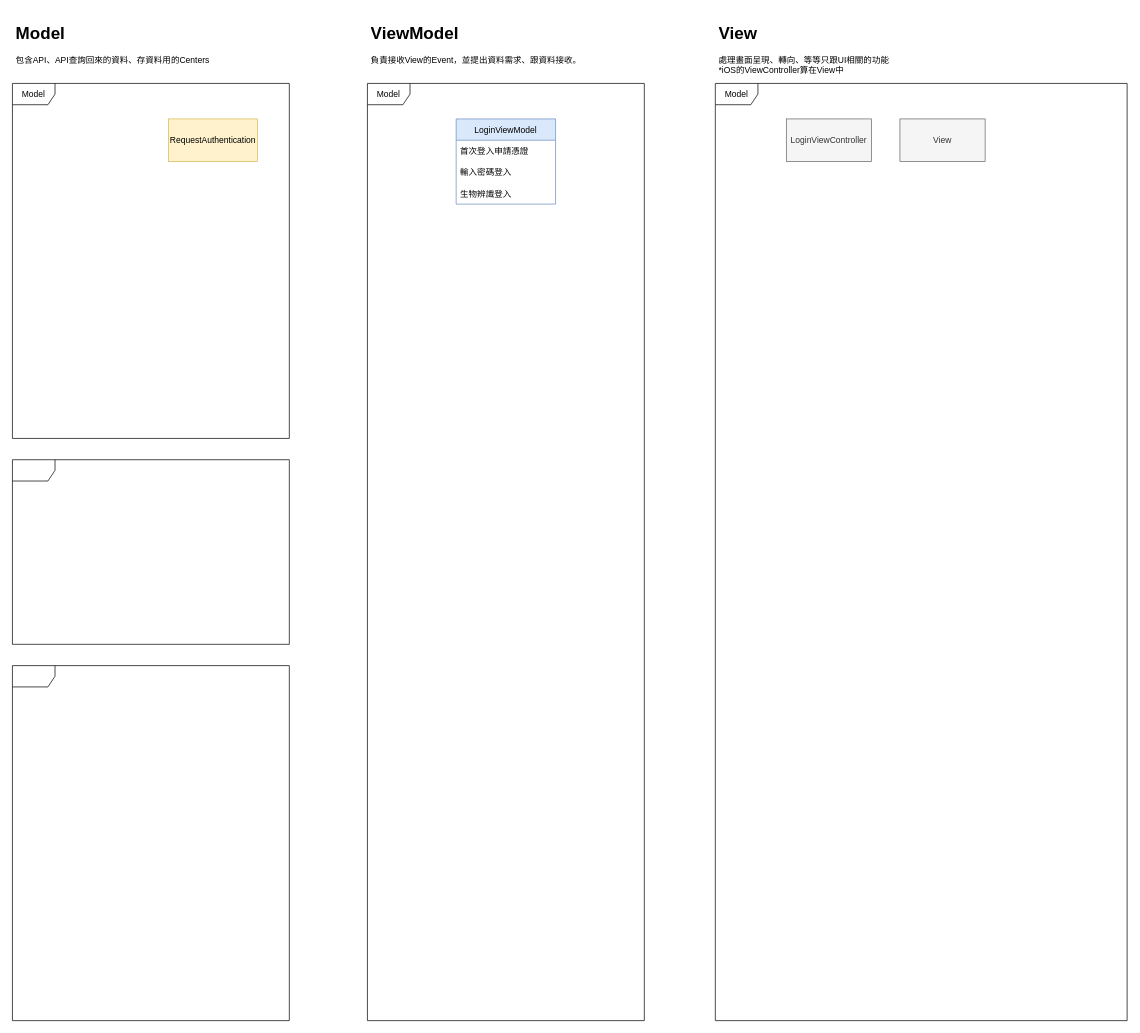
Some shapes in this 1140 by 1033 pixel diagram are drawn without their labels. Here are the shapes that lost their labels. From the top down, the centre of each, then its label:
At pixel 150 551: "Cert".
At pixel 150 843: "SolacLib".
